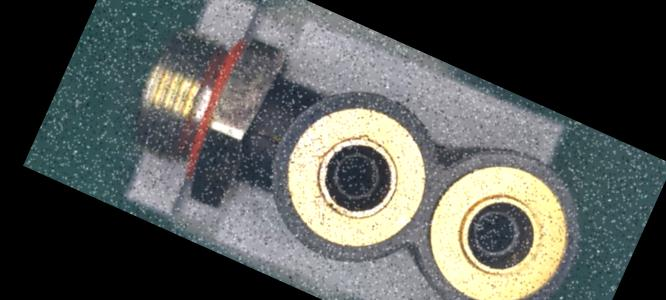craze: (246, 123, 282, 148)
